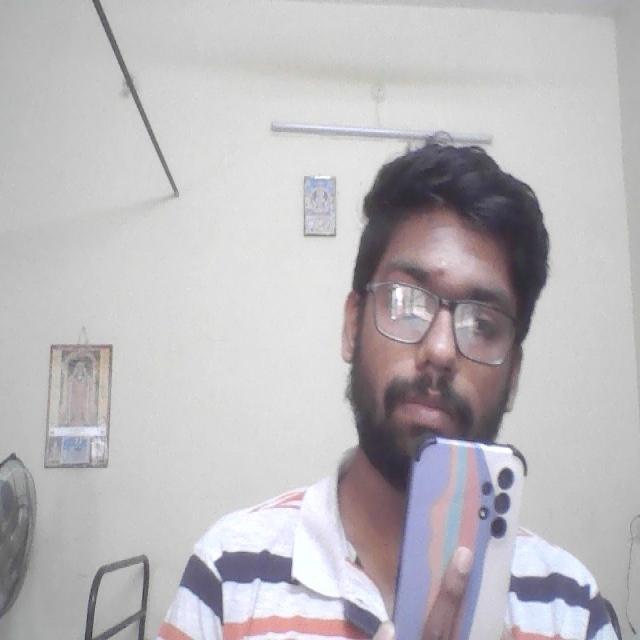Mobile: (399, 437, 526, 640)
